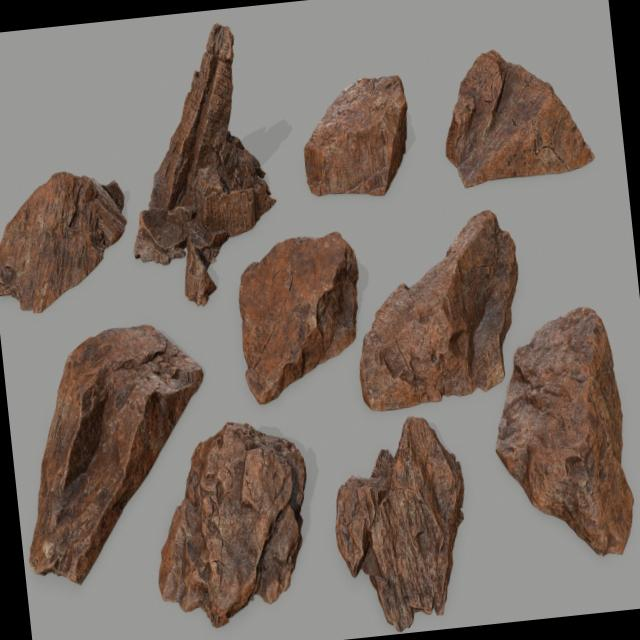stone: (29, 325, 202, 582), (134, 24, 275, 303), (496, 307, 632, 553), (359, 210, 517, 409), (159, 422, 305, 626), (335, 417, 463, 630), (238, 232, 358, 403), (445, 50, 593, 186), (0, 172, 126, 311), (304, 75, 407, 195)
